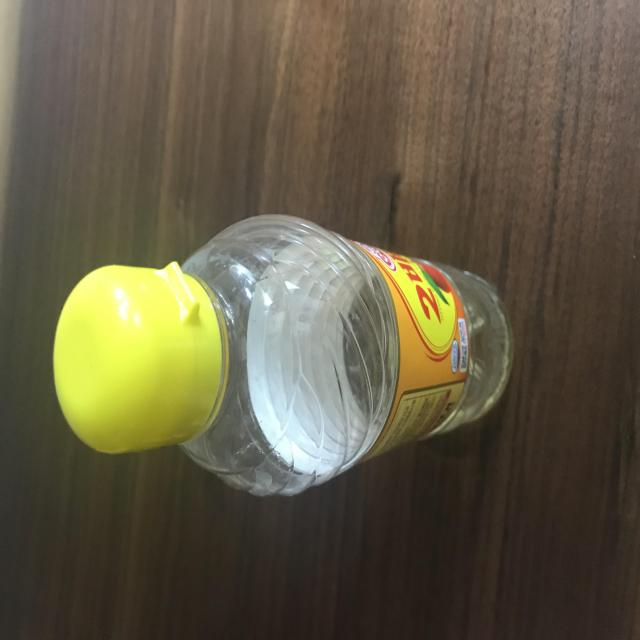bottle: (47, 202, 522, 509)
